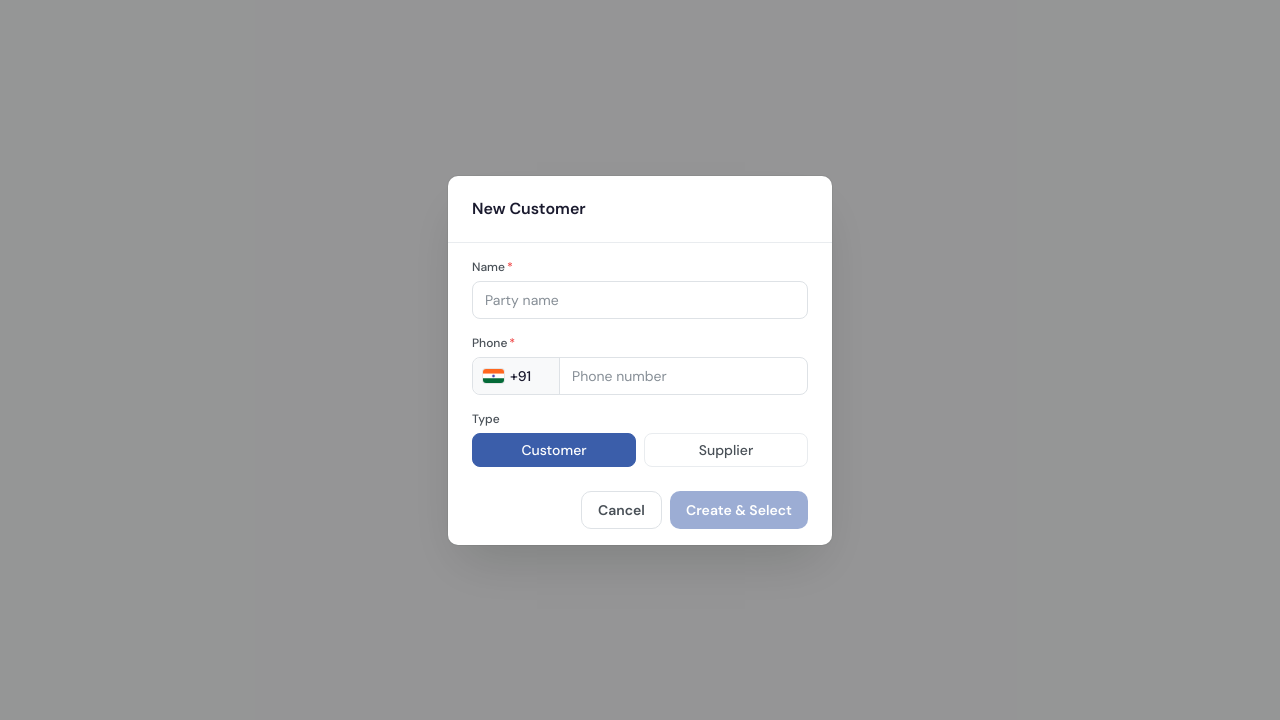
Test: QuickPartyCreate › "Create & Select" button is enabled when both name and phone are filled
Type "Test Party" into the field with placeholder "Party name".
click(640, 300); type("Test Party")  # box x1=472 y1=280 x2=808 y2=318
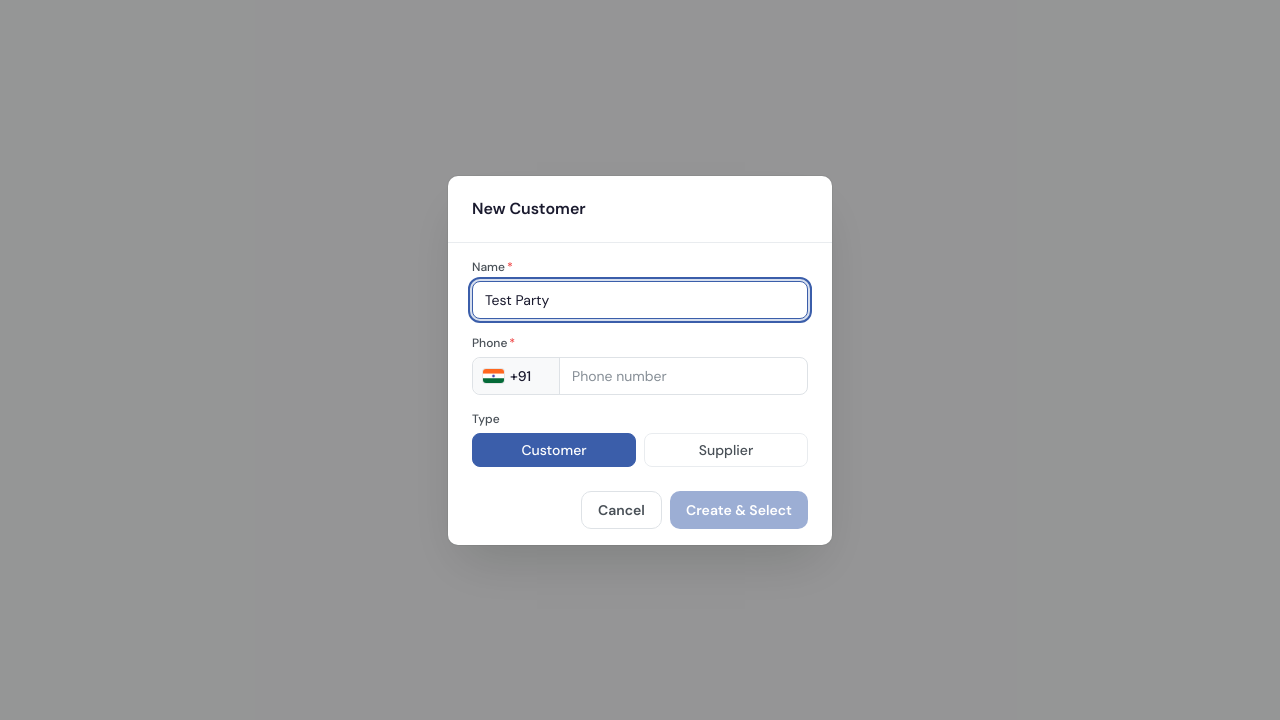
Type "9876543210" into the field with placeholder "Phone number".
click(684, 376); type("9876543210")  # box x1=560 y1=358 x2=807 y2=394
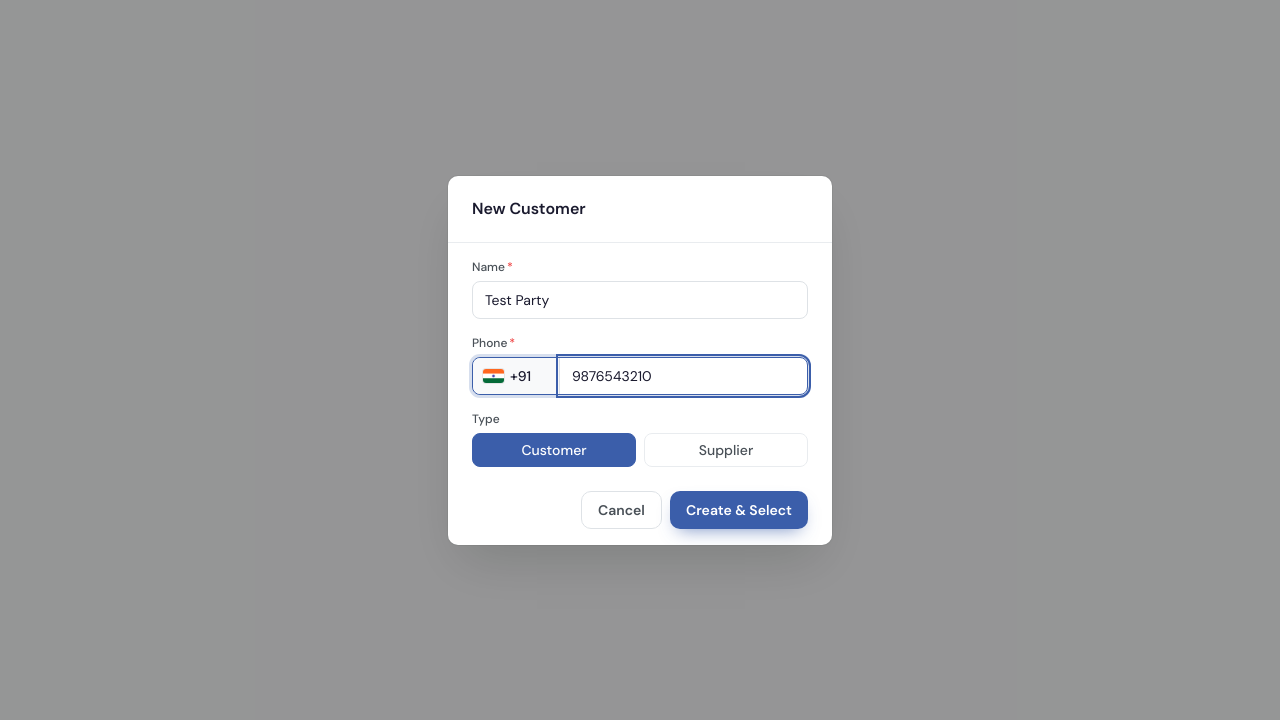
Result: the button "Create & Select" is enabled at x1=670 y1=490 x2=808 y2=528
